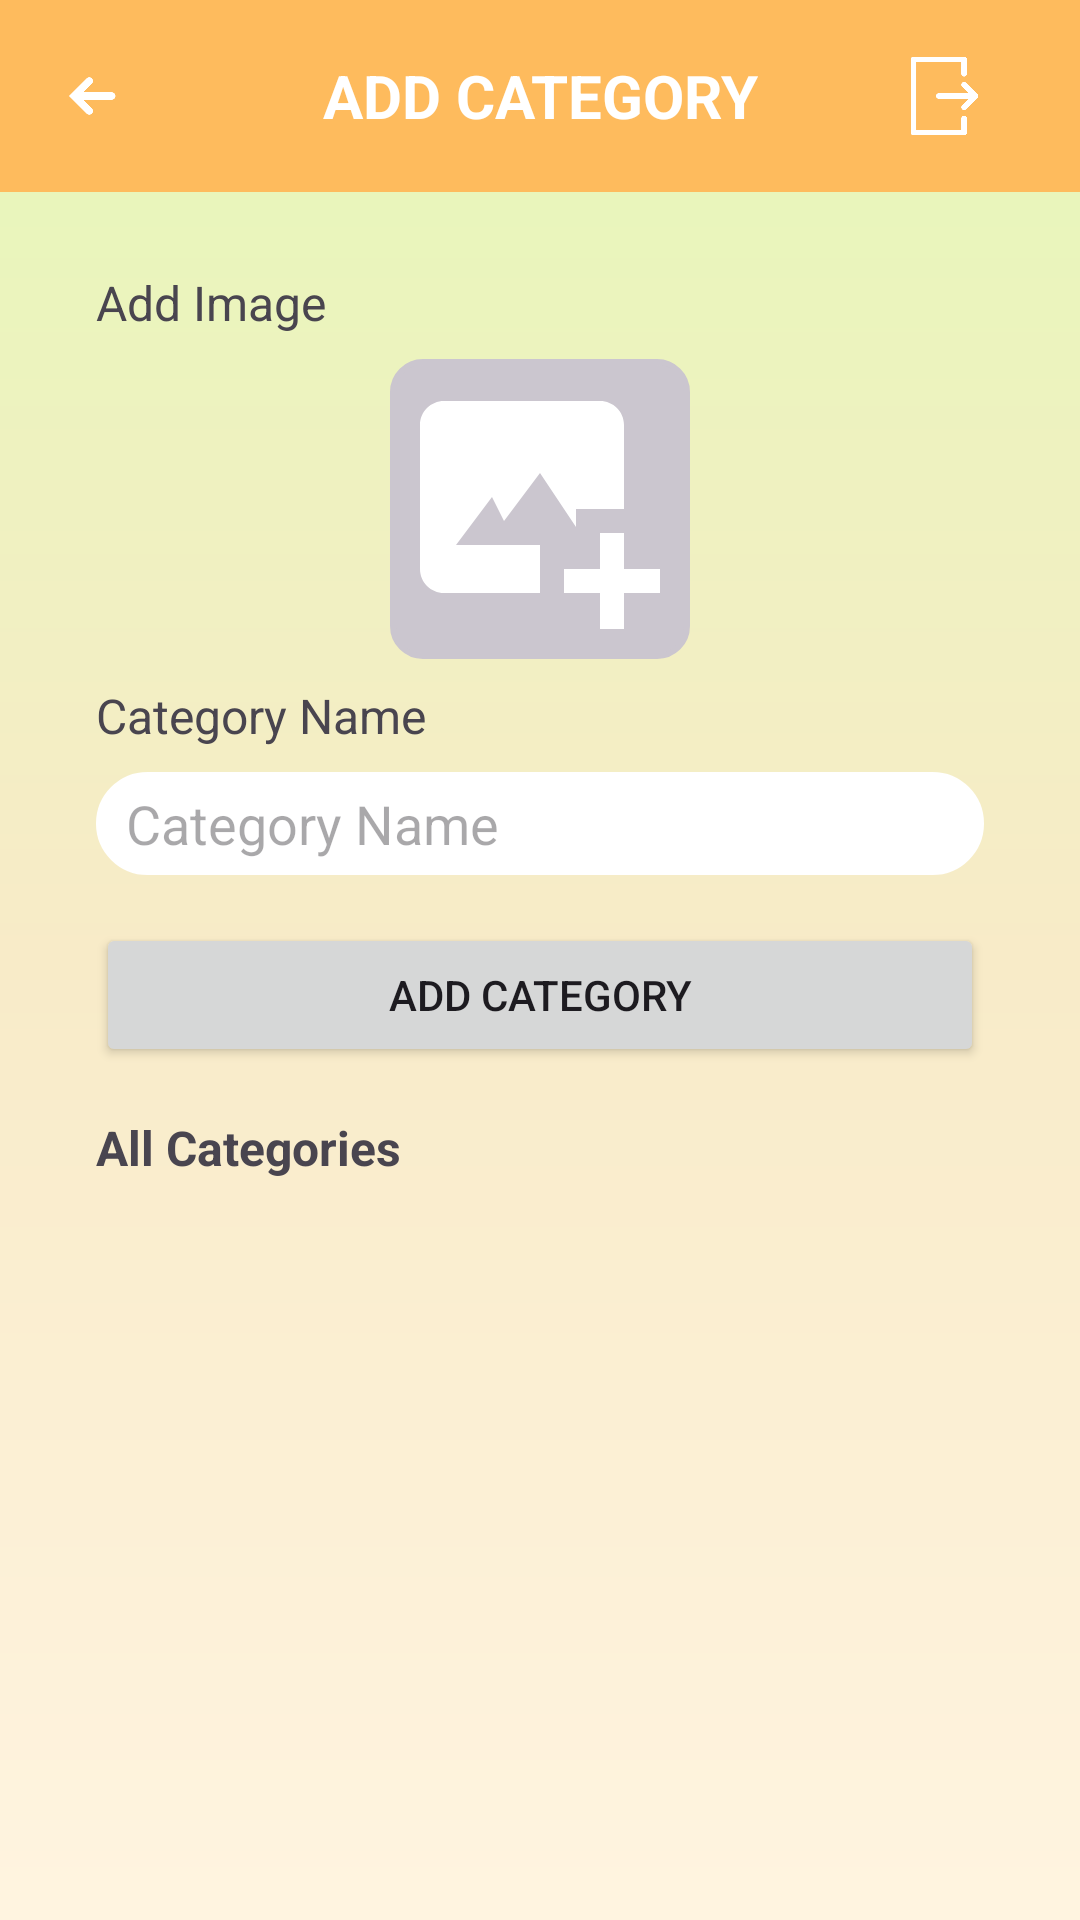

Where to tap for icons on this 1080*1920 app screen, as (x=x, y=y):
arrow left: (x=92, y=96)
